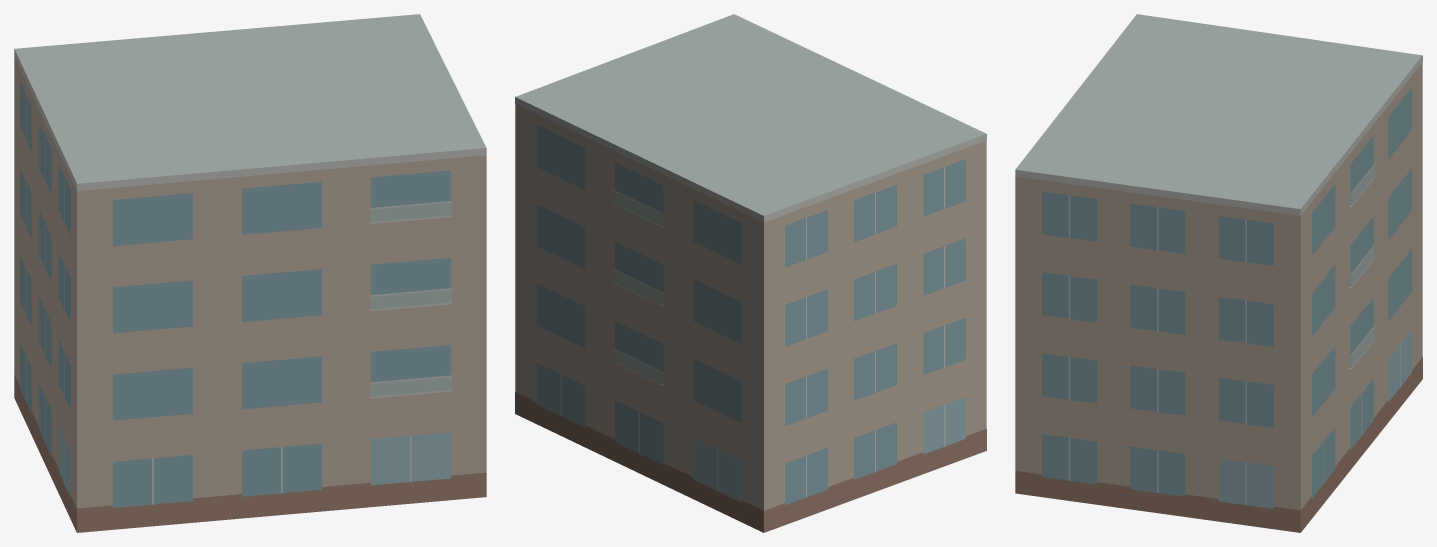
File: survey-upis-32537578.glb
The picture shows the model from 3 angles, left to right: view 1: azimuth 30°, elevation 25°; view 2: azimuth 150°, elevation 25°; view 3: azimuth 270°, elevation 25°; orthographic projection. The views are drawn at different scales.
Parts seen in each view (by area): view 1: survey-upis-32537578.tmp; view 2: survey-upis-32537578.tmp; view 3: survey-upis-32537578.tmp.
Boxes of the visible parts, x1,y1,x2,y2 form: survey-upis-32537578.tmp: (14,14,486,532); survey-upis-32537578.tmp: (515,14,986,532); survey-upis-32537578.tmp: (1015,14,1422,532).
Bounding box in the file's own units: 15.14 × 11.7 × 13.36.
